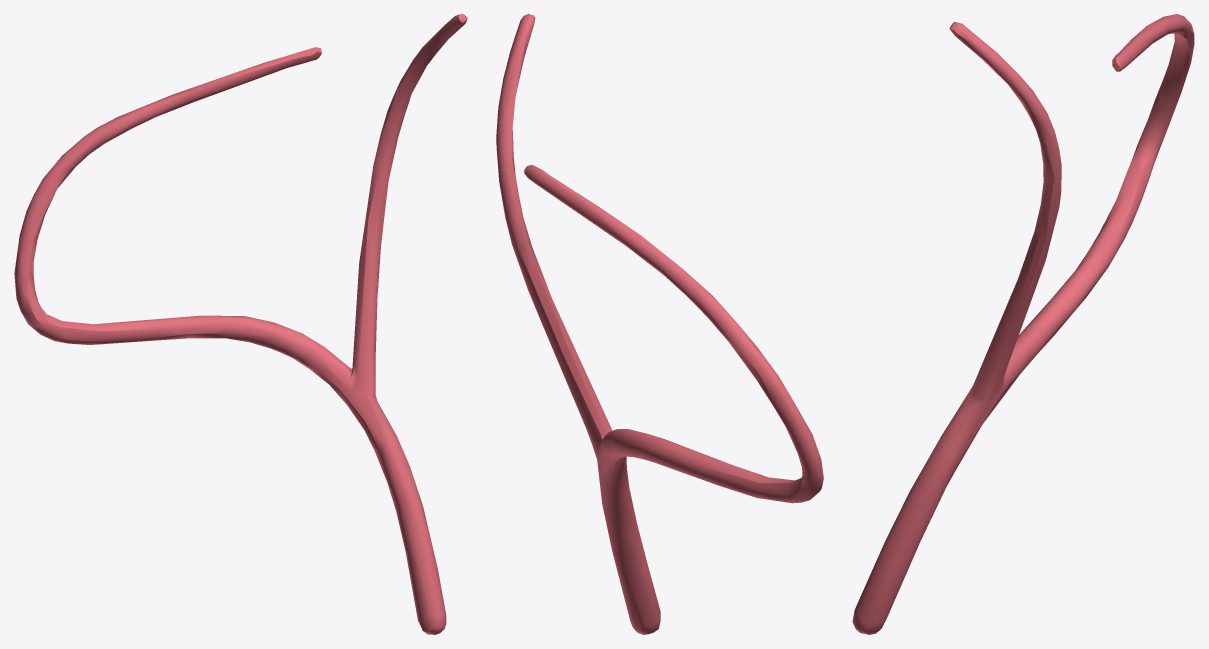
The model's file is fma49690_fj5073.glb.
3 renders of one model, left to right at view 1: azimuth 30°, elevation 25°; view 2: azimuth 150°, elevation 25°; view 3: azimuth 270°, elevation 25°, orthographic. The views are drawn at different scales.
Parts seen in each view (by area): view 1: FMA49690_FJ5073; view 2: FMA49690_FJ5073; view 3: FMA49690_FJ5073.
Part boxes in pixels (<box>): FMA49690_FJ5073: <box>14,14,467,634</box>; FMA49690_FJ5073: <box>496,14,823,634</box>; FMA49690_FJ5073: <box>852,14,1194,634</box>.
Size of the model in its own units: 0.0139 by 0.0211 by 0.0101.
